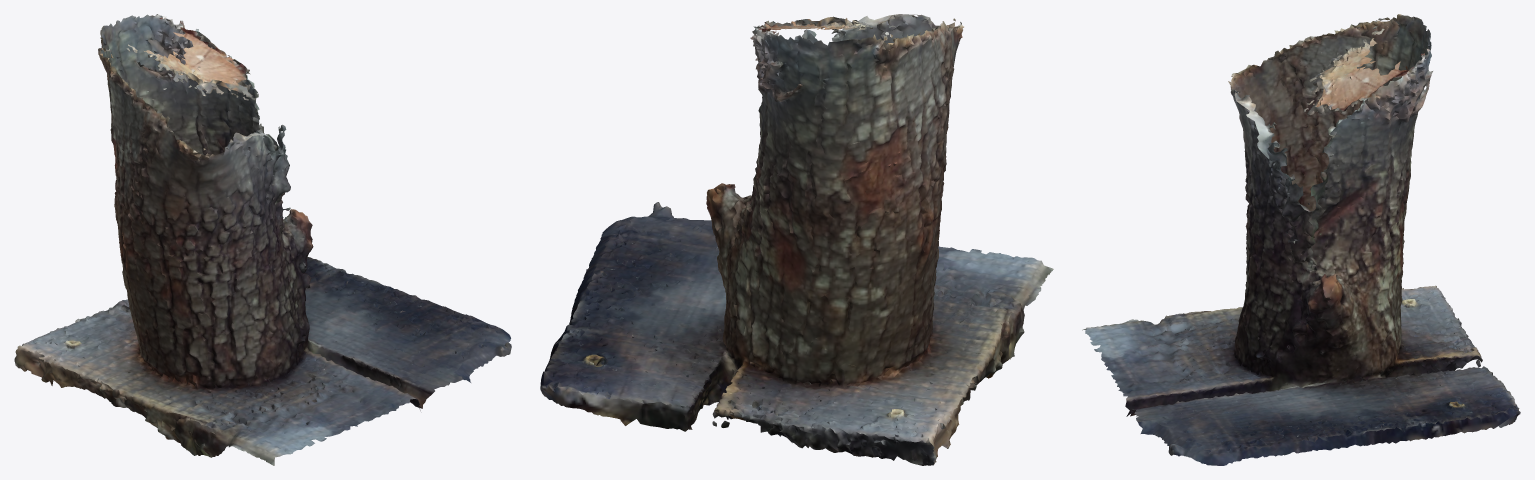
The picture shows the model from 3 angles, left to right: view 1: azimuth 30°, elevation 25°; view 2: azimuth 150°, elevation 25°; view 3: azimuth 270°, elevation 25°; orthographic projection. The views are drawn at different scales.
Visible parts, largest first — view 1: Default_log_0; view 2: Default_log_0; view 3: Default_log_0.
Part boxes in pixels (x1,y1,x2,y2): Default_log_0: (14,14,511,465); Default_log_0: (540,14,1053,465); Default_log_0: (1082,14,1520,465).
Bounding box in the file's own units: 0.8921 × 0.7572 × 0.8958.
Materials: 1 (1 with a texture image).
